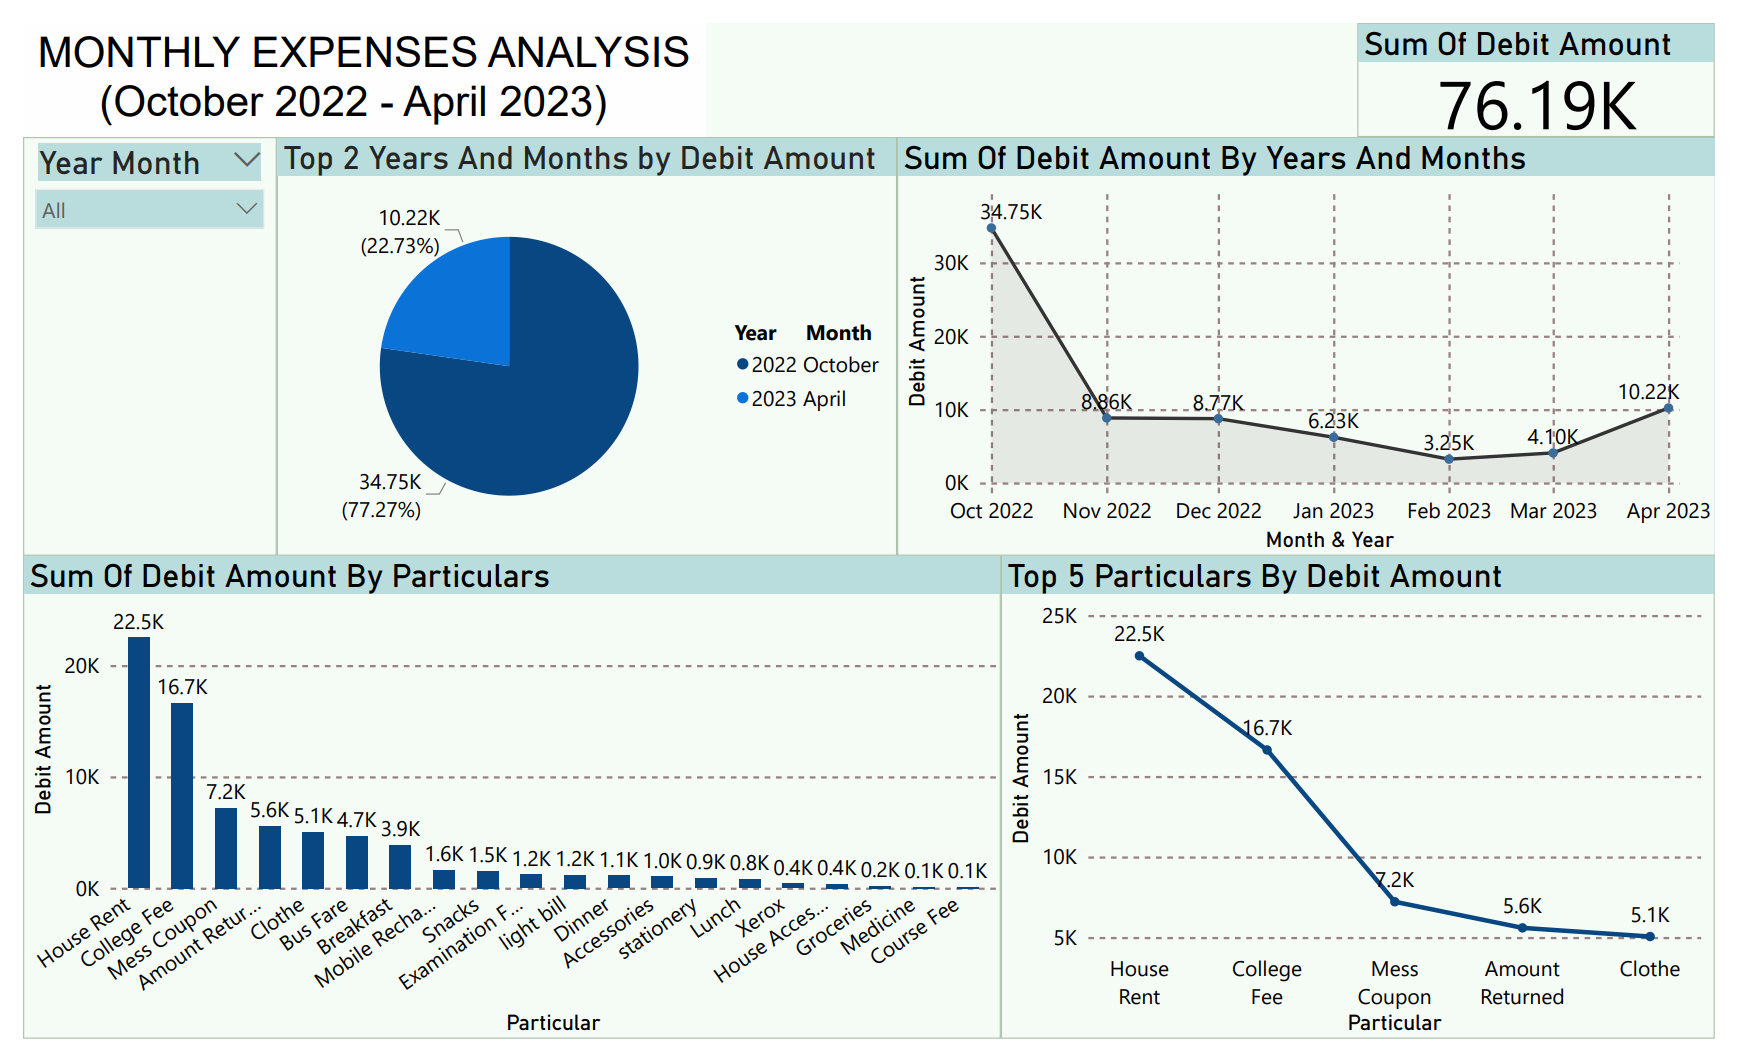

This screenshot's page, from the dashboard's own definition file:
{"tool":"powerbi","page":{"name":"Page 1","canvas":[1500,900],"ordinal":0},"visuals":[{"type":"columnChart","title":"Sum Of Debit Amount By Particulars","fields":{"Category":["Final Data.PARTICULAR"],"Y":["Sum(Final Data.Debit Amount)"]},"box":[0,471.9,866.8,428.1],"z":0},{"type":"lineChart","title":"Top 5 Particulars By Debit Amount ","fields":{"Y":["Sum(Final Data.Debit Amount)"],"Category":["Final Data.PARTICULAR"]},"box":[866.8,471.9,633.2,428.1],"z":1000},{"type":"stackedAreaChart","title":"Sum Of Debit Amount By Year And Month","fields":{"Y":["Sum(Final Data.Debit Amount)"],"Category":["Final Data.DATE.Variation.Date Hierarchy.Year","Final Data.DATE.Variation.Date Hierarchy.Month"]},"box":[774.7,100.8,725.8,371.3],"z":2000},{"type":"pieChart","title":"Top 2 Years And Months by Debit Amount","fields":{"Category":["Final Data.DATE.Variation.Date Hierarchy.Year","Final Data.DATE.Variation.Date Hierarchy.Month"],"Y":["Sum(Final Data.Debit Amount)"]},"box":[224.6,100.8,550.1,371.3],"z":3000},{"type":"card","title":"Sum Of Debit Amount","fields":{"Values":["Sum(Final Data.Debit Amount)"]},"box":[1183.4,0,316.6,101],"z":4000},{"type":"textbox","box":[0,0,605.1,100.8],"z":5000},{"type":"slicer","fields":{"Values":["Final Data.DATE.Variation.Date Hierarchy.Year","Final Data.DATE.Variation.Date Hierarchy.Month"]},"box":[0,100.8,224.6,371.3],"z":6000}]}

Visuals, with their boxes in screenshot pixels (x1, y1, x2, y2), scaled from the page's 1500x900 canvas onto the 1742x1060 screenshot:
"Sum Of Debit Amount By Particulars" columnChart: <region>0, 556, 1007, 1059</region>
"Top 5 Particulars By Debit Amount " lineChart: <region>1007, 556, 1741, 1059</region>
"Sum Of Debit Amount By Year And Month" stackedAreaChart: <region>900, 119, 1741, 556</region>
"Top 2 Years And Months by Debit Amount" pieChart: <region>261, 119, 900, 556</region>
"Sum Of Debit Amount" card: <region>1374, 0, 1741, 119</region>
textbox: <region>0, 0, 703, 119</region>
slicer - Final Data.DATE.Variation.Date Hierarchy.Year x Final Data.DATE.Variation.Date Hierarchy.Month: <region>0, 119, 261, 556</region>
